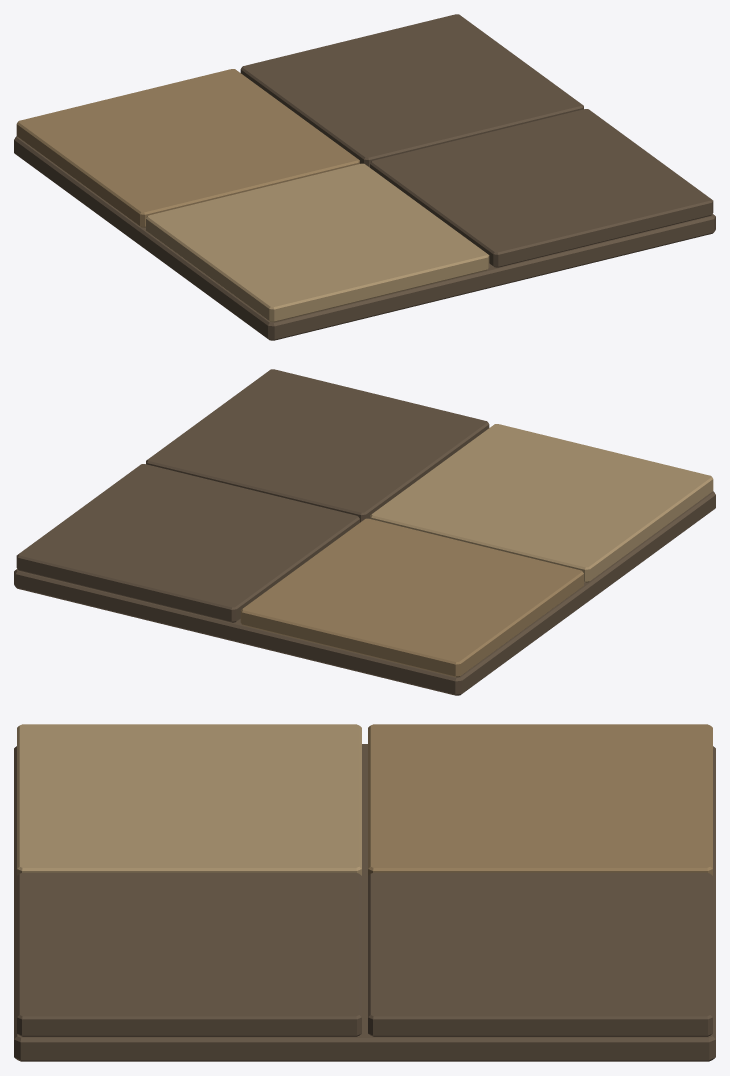
File: floor-transition.glb
The picture shows the model from 3 angles, top to bottom: view 1: azimuth 30°, elevation 25°; view 2: azimuth 150°, elevation 25°; view 3: azimuth 270°, elevation 25°; orthographic projection. The views are drawn at different scales.
Visible parts, largest first — view 1: floor-transition__body; view 2: floor-transition__body; view 3: floor-transition__body.
Part boxes in pixels (bbox=[...]): floor-transition__body: bbox=[14, 14, 715, 340]; floor-transition__body: bbox=[14, 369, 715, 695]; floor-transition__body: bbox=[14, 724, 715, 1061].
Size of the model in its own units: 2 by 0.14 by 2.
